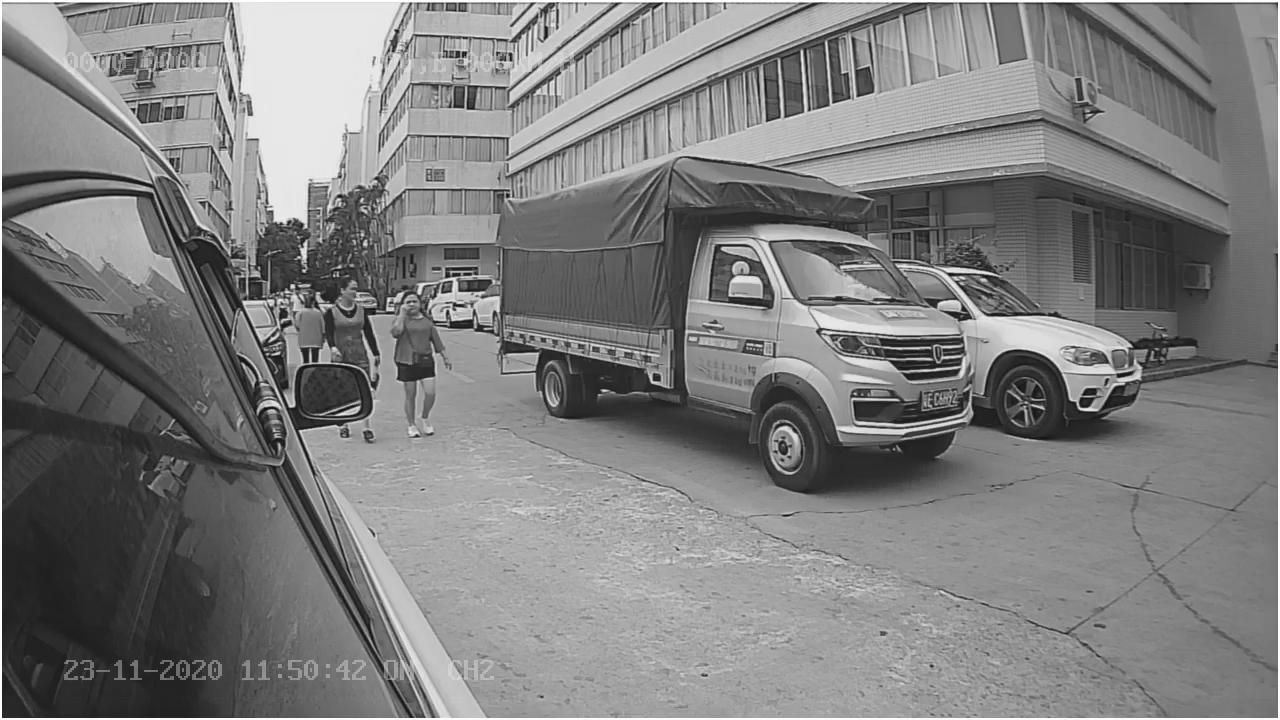person: (391, 279, 455, 437)
